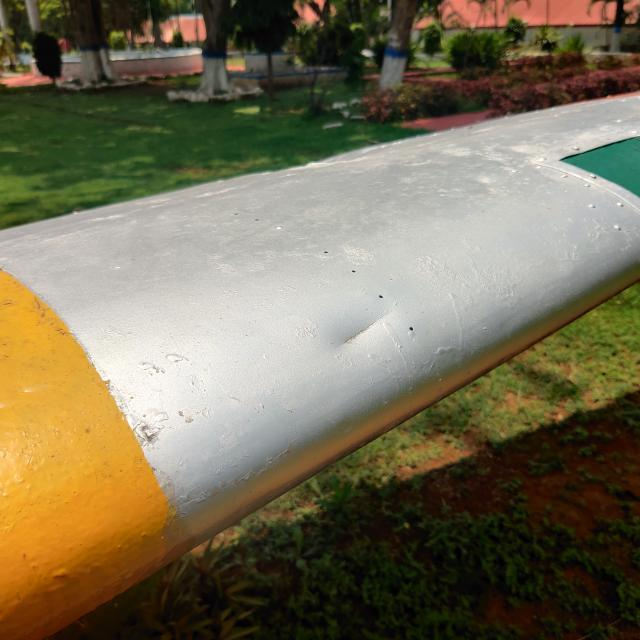dent: (314, 271, 421, 367)
